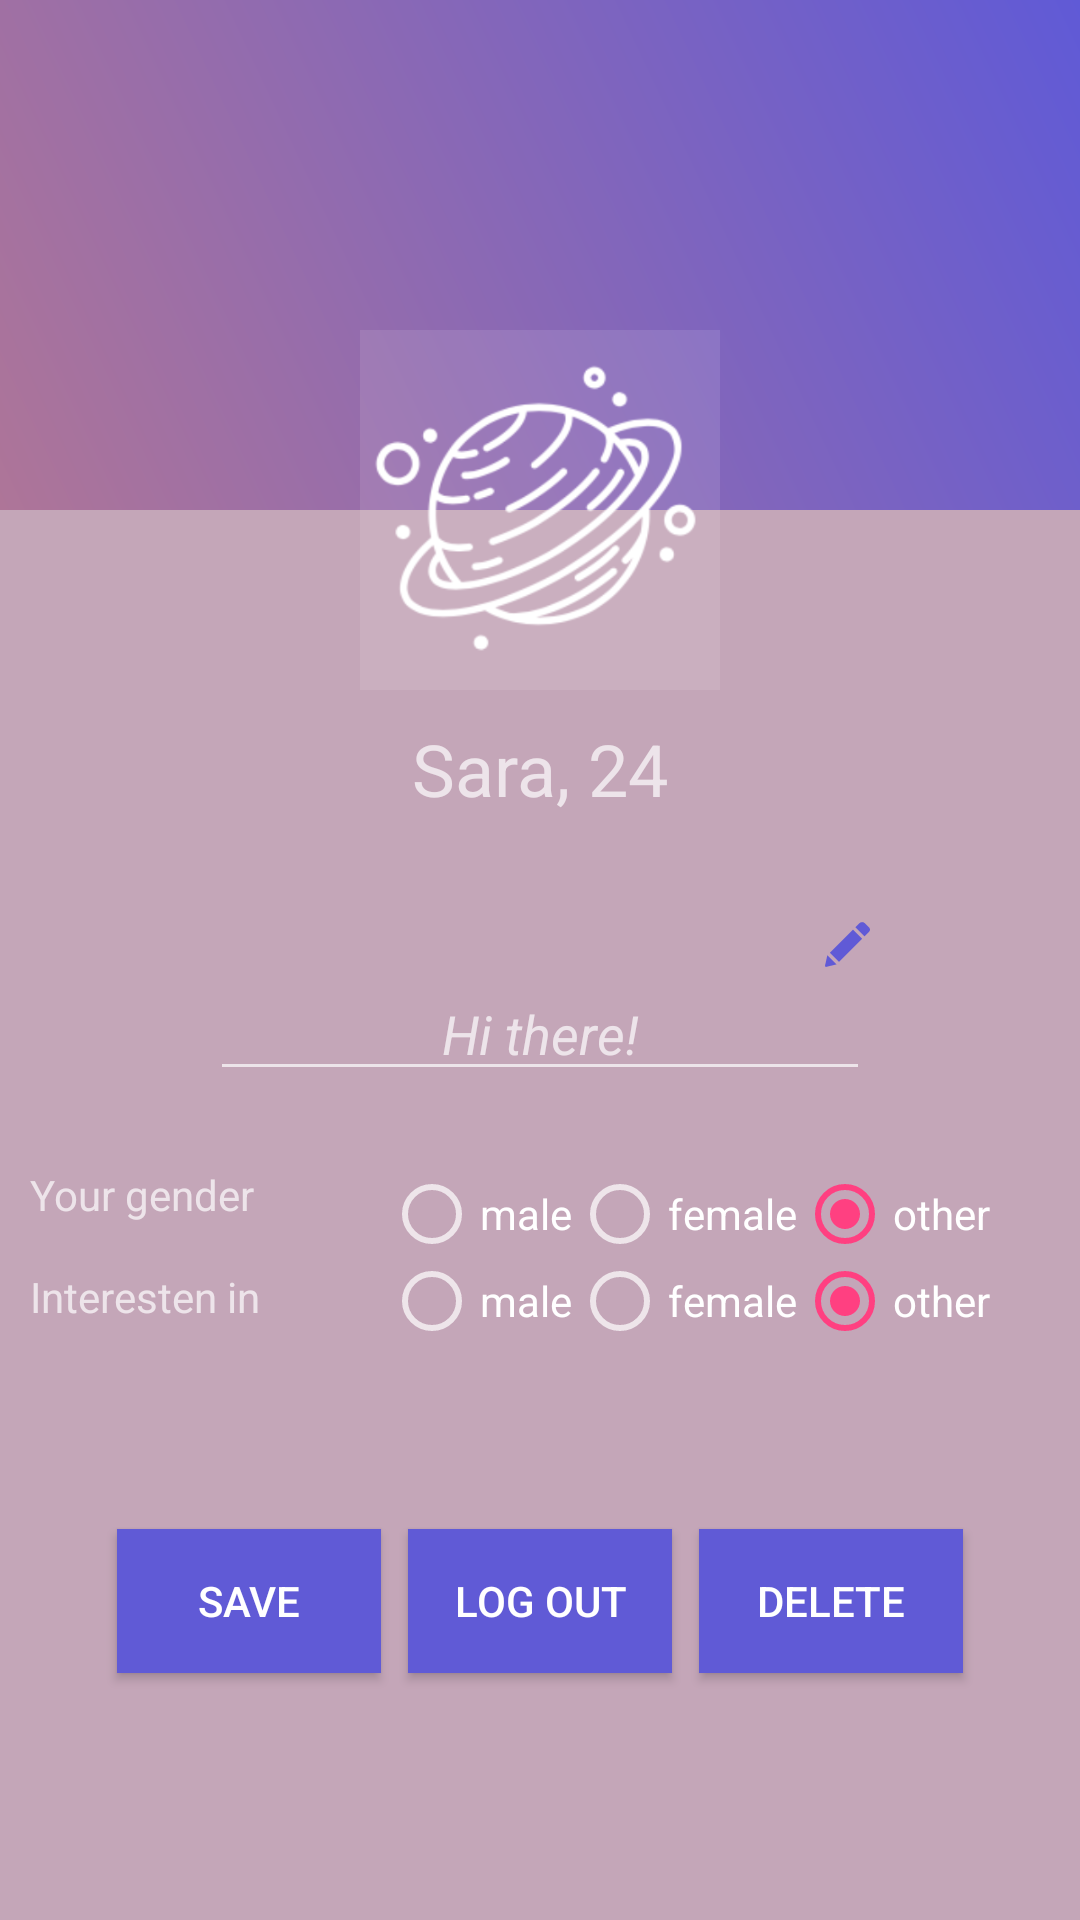

Screen size 1080×1920. Icon name, then its box in pixels as (x1, y1, x2, y2):
pencil edit: (825, 922, 870, 967)
